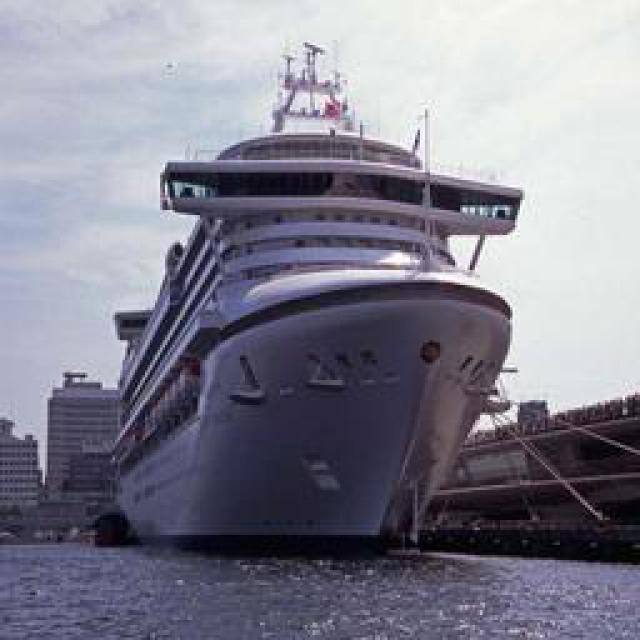Ship: (83, 35, 531, 563)
